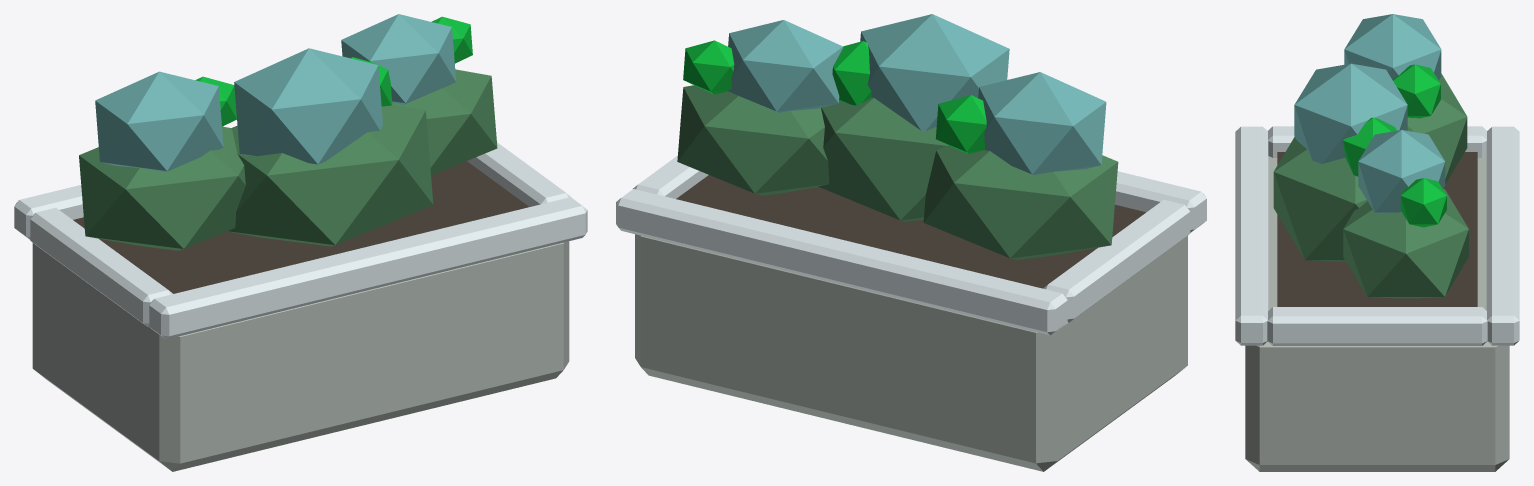
The model's file is gh_planter_v01.glb.
3 renders of one model, left to right at view 1: azimuth 30°, elevation 25°; view 2: azimuth 150°, elevation 25°; view 3: azimuth 270°, elevation 25°, orthographic. The views are drawn at different scales.
Visible parts, largest first — view 1: Concrete planter and foliage; view 2: Concrete planter and foliage; view 3: Concrete planter and foliage.
Boxes of the visible parts, box(x1,y1,x2,y2) form: Concrete planter and foliage: box(14, 14, 587, 471); Concrete planter and foliage: box(616, 14, 1206, 471); Concrete planter and foliage: box(1235, 14, 1519, 471).
Size of the model in its own units: 2.09 by 1.6 by 1.29.
Materials: 1 (1 with a texture image).
